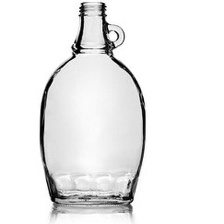bottle: (36, 0, 149, 207)
